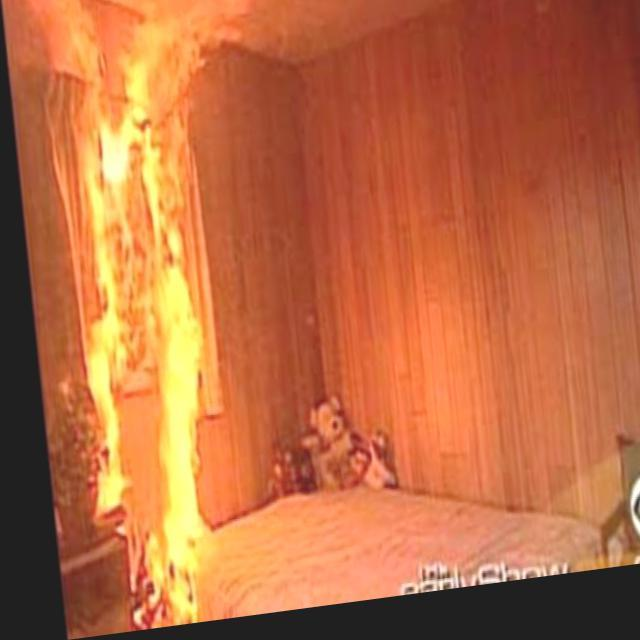Fire: (40, 20, 213, 634)
